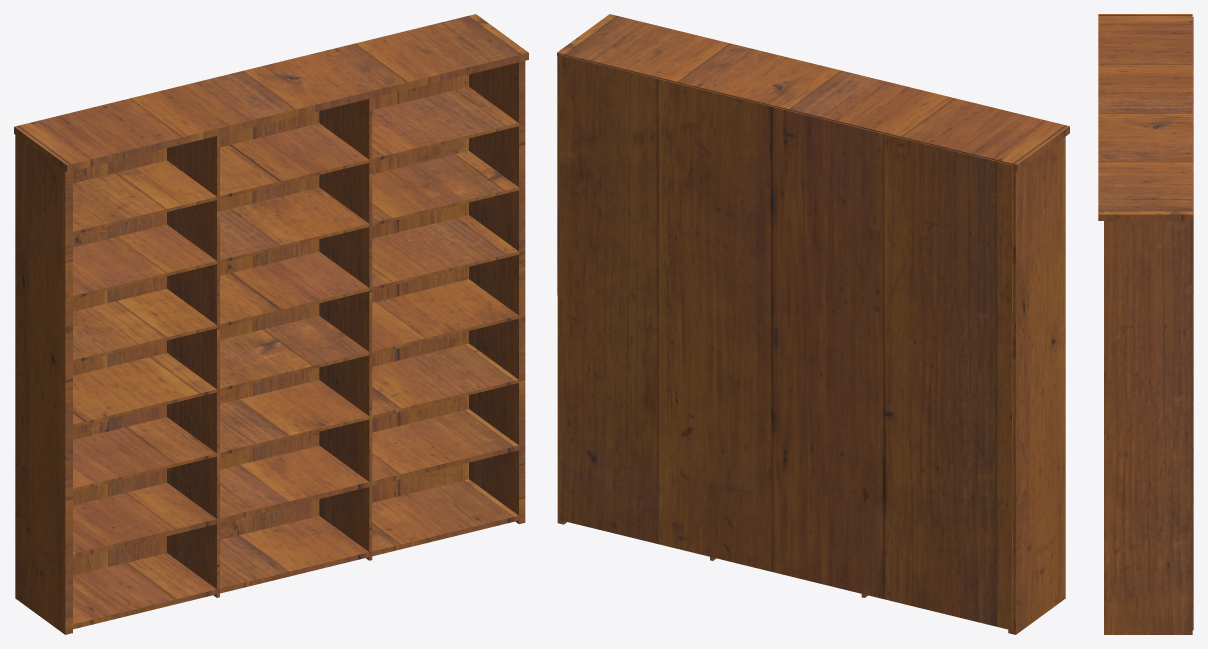
The model's file is bookcase.fbx.
3 views of the same model, side by side, from view 1: azimuth 30°, elevation 25°; view 2: azimuth 150°, elevation 25°; view 3: azimuth 270°, elevation 25° (orthographic). The views are drawn at different scales.
Parts seen in each view (by area): view 1: polySurface796; view 2: polySurface796; view 3: polySurface796.
Part boxes in pixels (<box>): polySurface796: <box>14,14,528,634</box>; polySurface796: <box>557,14,1069,634</box>; polySurface796: <box>1098,14,1193,634</box>.
Size of the model in its own units: 639 by 624 by 128.
